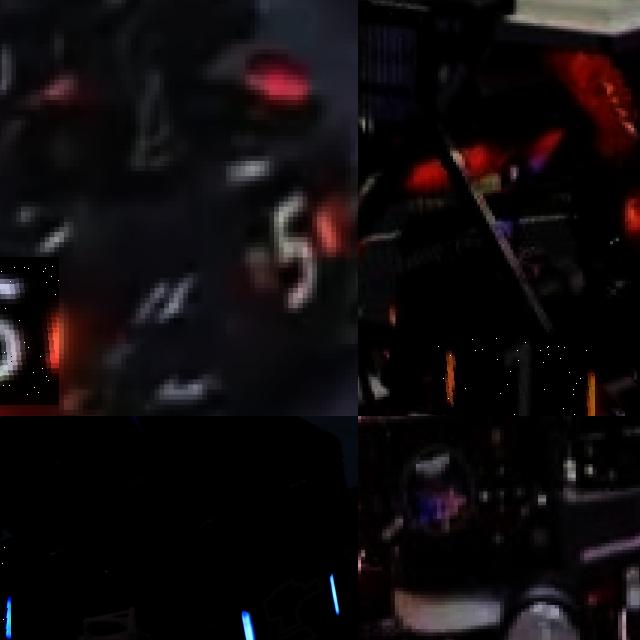Bs: (234, 568, 346, 640)
R1: (432, 337, 595, 416)
R5: (0, 257, 59, 404)
